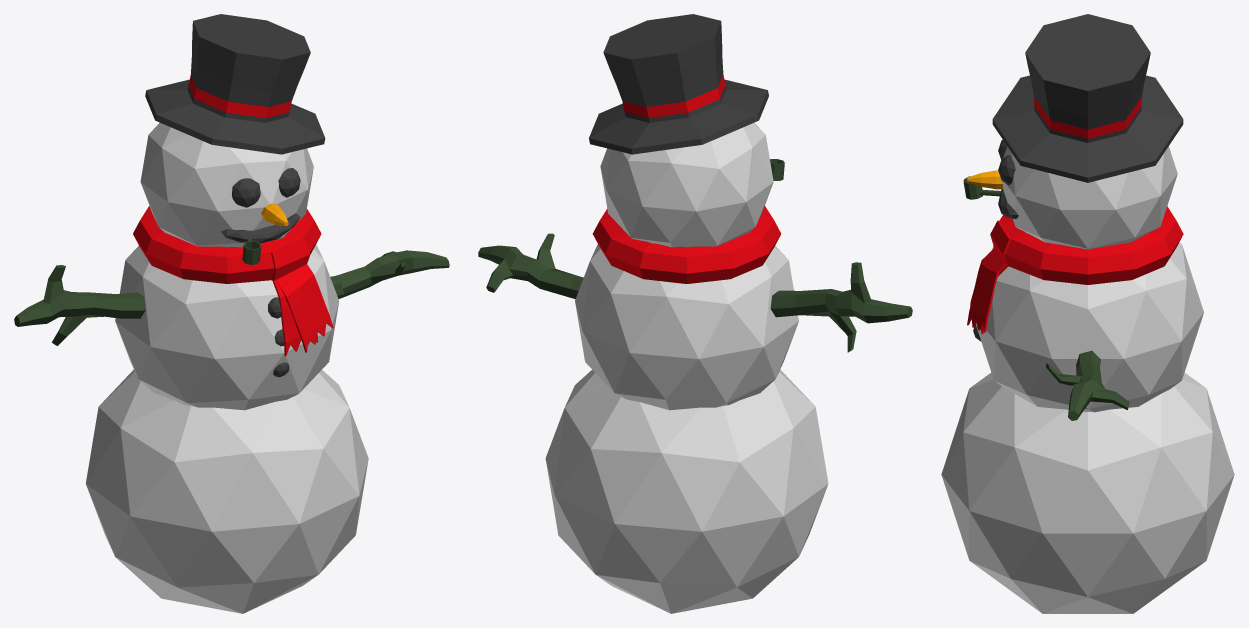
The model's file is white-snowman.glb.
The picture shows the model from 3 angles, left to right: view 1: azimuth 30°, elevation 25°; view 2: azimuth 150°, elevation 25°; view 3: azimuth 270°, elevation 25°; orthographic projection.
Visible parts, largest first — view 1: Icosphere; view 2: Icosphere; view 3: Icosphere.
Part boxes in pixels (x1,y1,x2,y2): Icosphere: (14,14,449,613); Icosphere: (478,14,912,613); Icosphere: (941,14,1234,613).
Bounding box in the file's own units: 3.44 × 4.36 × 2.
